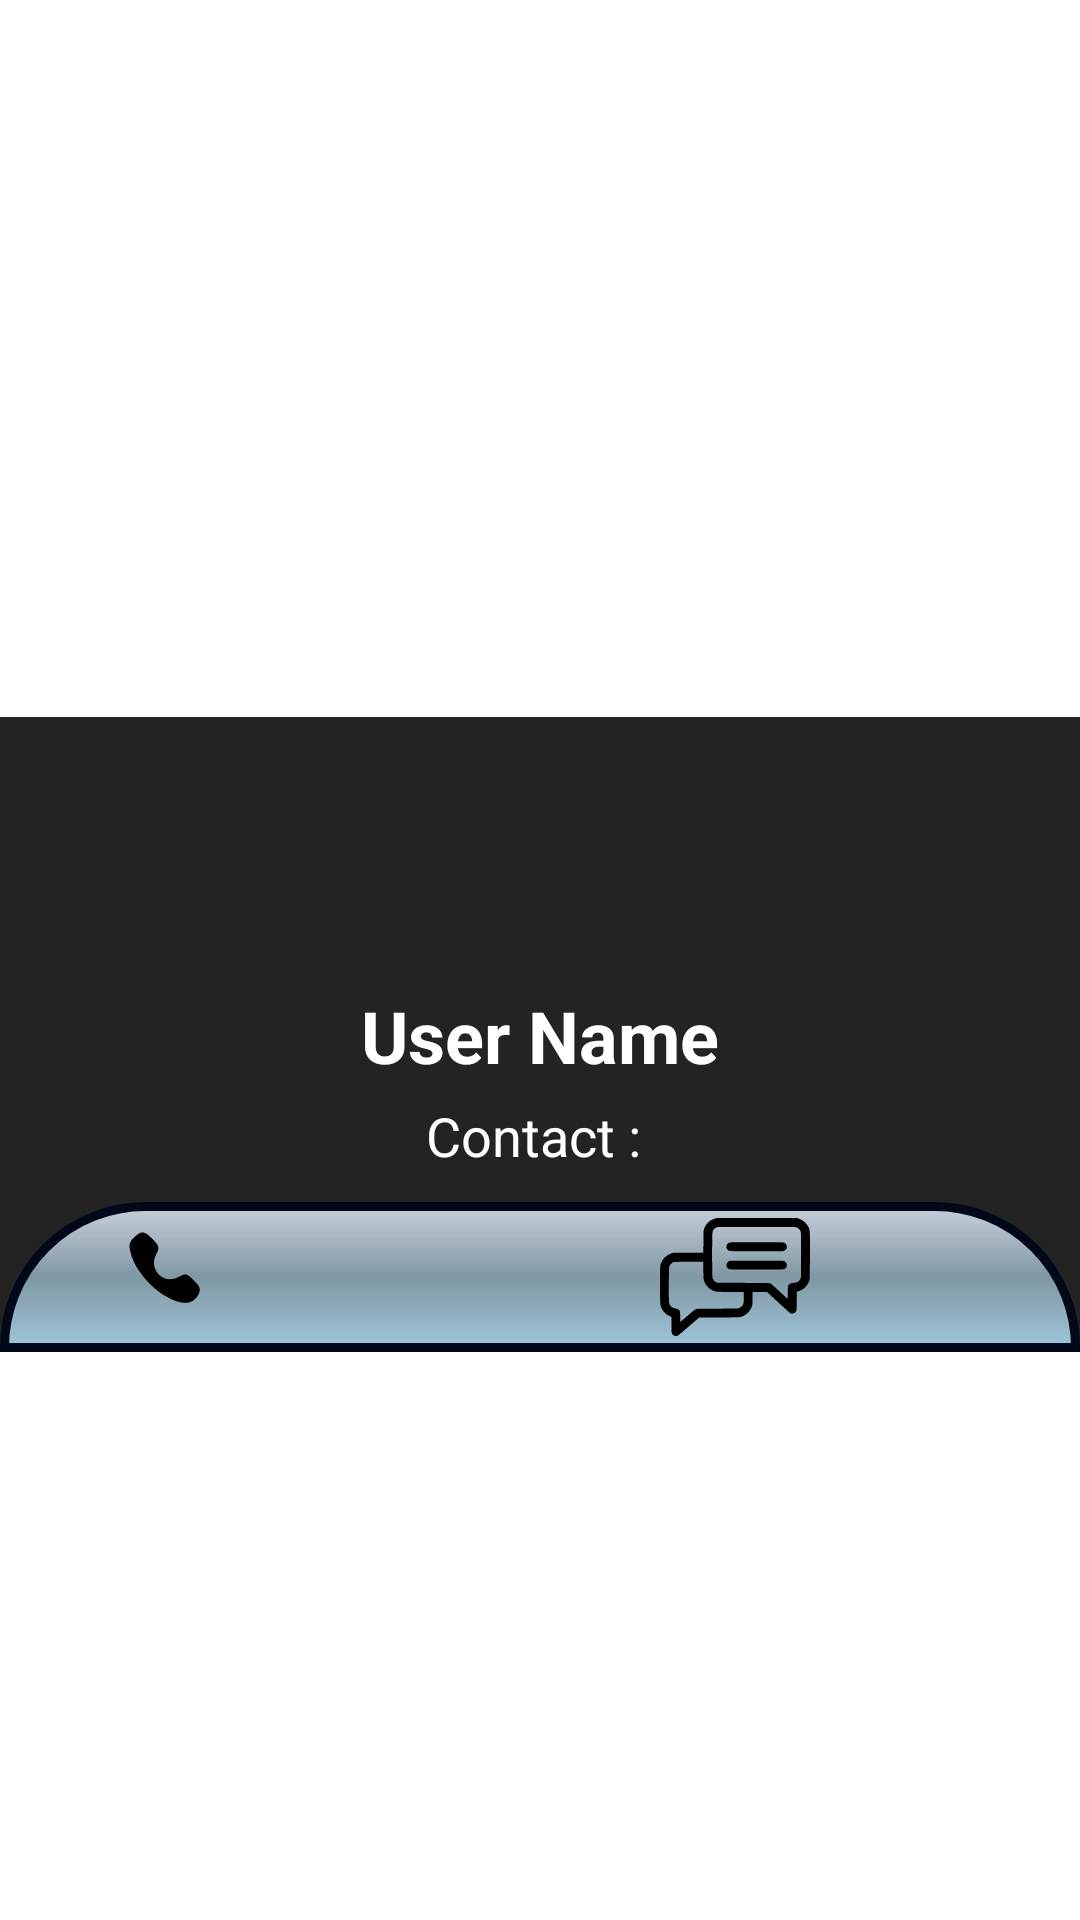

Where to tap for icons on this 1080×1920 app screen, as (x=x, y=y):
chat: (x=735, y=1277)
